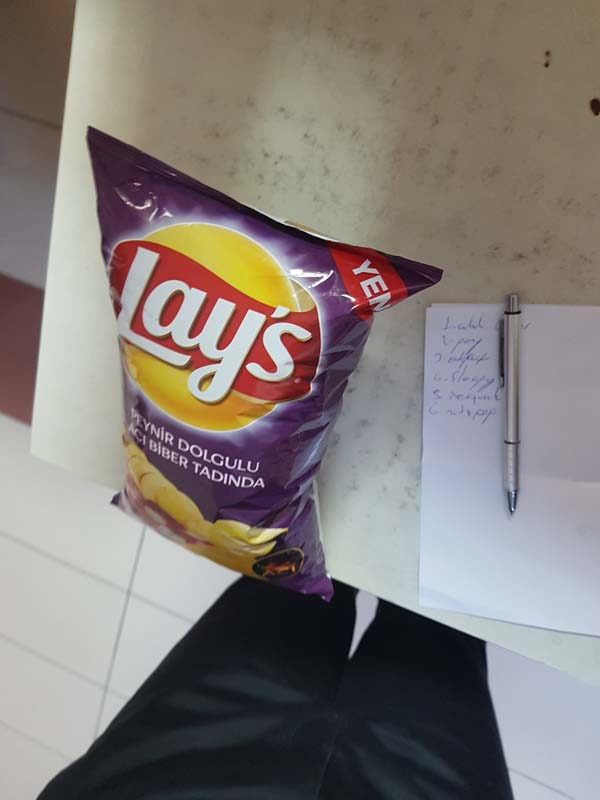layspeynirsoslu: (63, 118, 445, 592)
